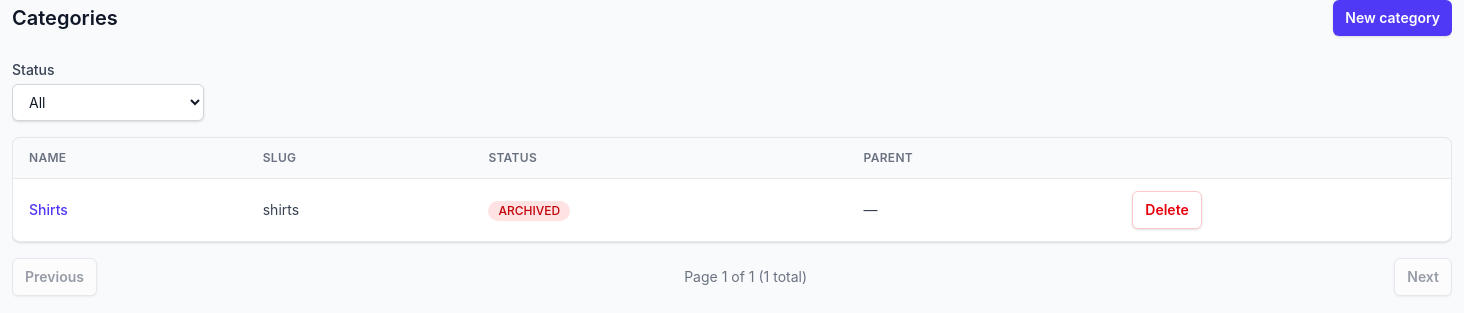
Test: CategoriesListPage › asks for confirmation and permanently deletes an archived category
Expected: the link "Shirts" is shown, [29,201,68,218]
Click the button "Delete". click: (1167, 210)
box: [1132,191,1202,229]
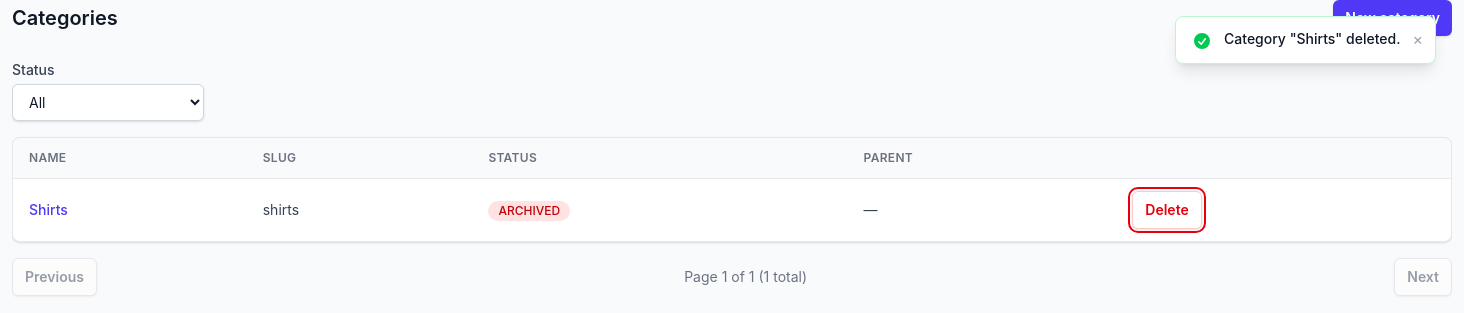
Now the text "Category \"Shirts\" deleted." is shown, box [1224,29,1400,49]
